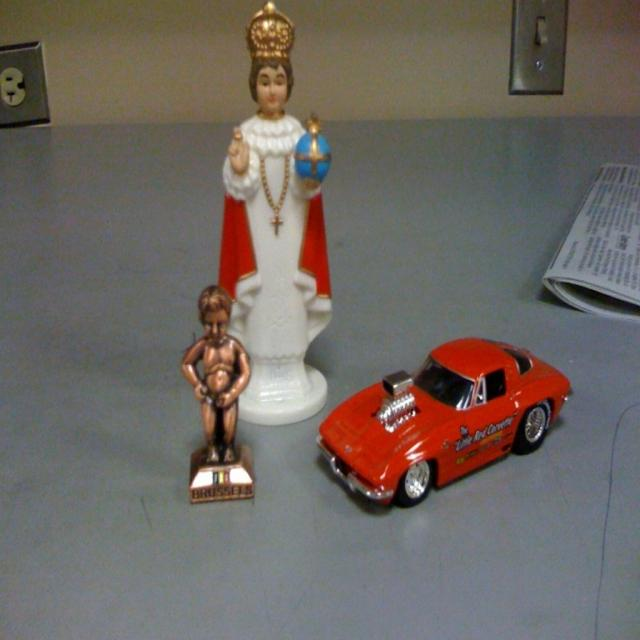Passenger Car: (317, 340, 572, 508)
